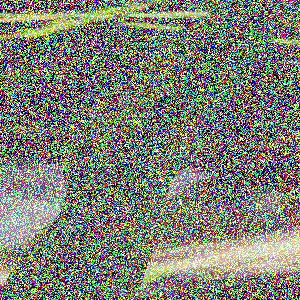Brown_Spot: (83, 80, 146, 127), (156, 98, 199, 147), (104, 199, 146, 242)
